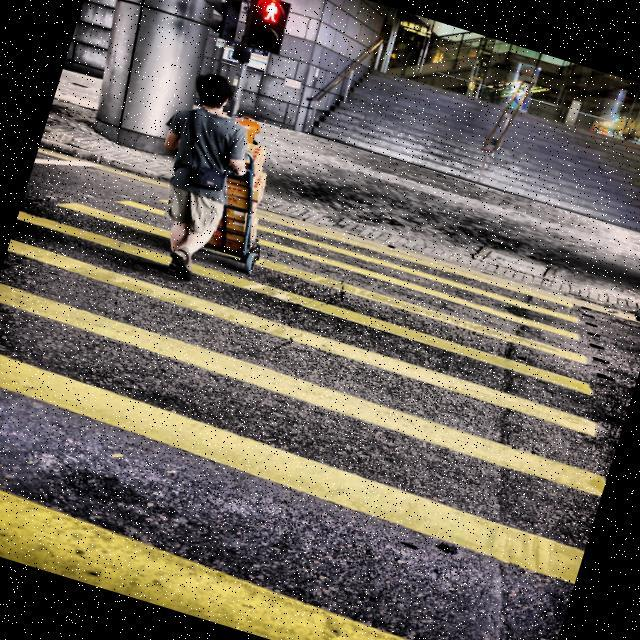red_light: (260, 0, 282, 23)
